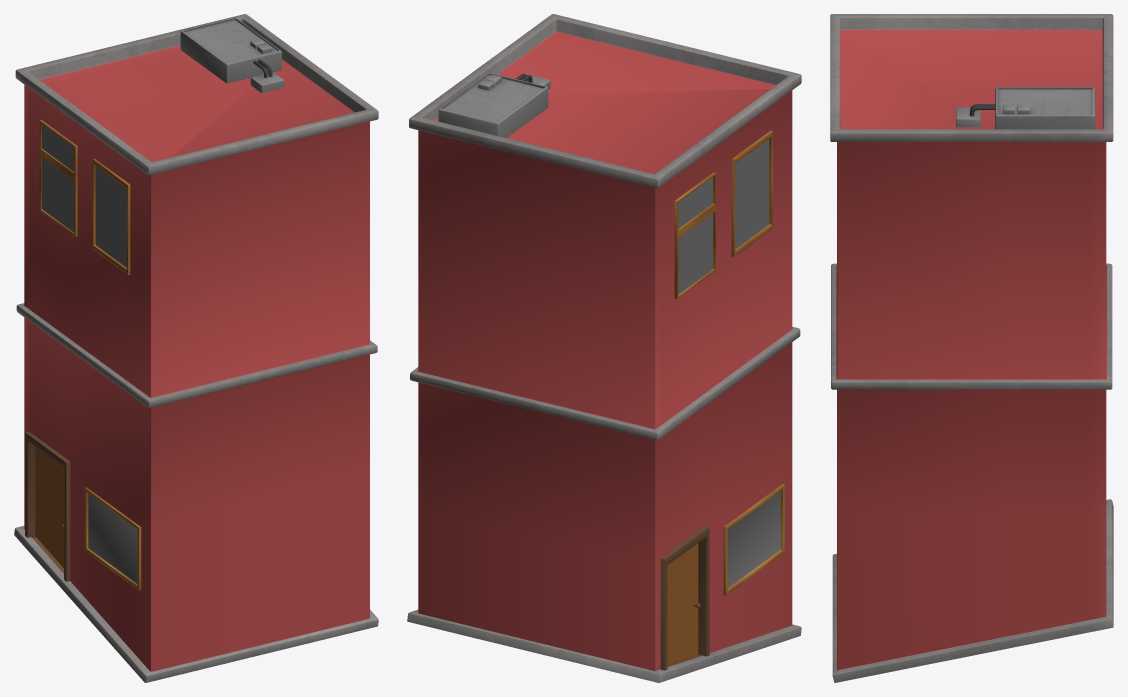
File: Casa torcida 1 Vertical Unity1.fbx
The picture shows the model from 3 angles, left to right: view 1: azimuth 30°, elevation 25°; view 2: azimuth 150°, elevation 25°; view 3: azimuth 270°, elevation 25°; orthographic projection. The views are drawn at different scales.
Parts seen in each view (by area): view 1: Cube.003; view 2: Cube.003; view 3: Cube.003.
Part boxes in pixels (bbox=[...]): Cube.003: bbox=[14, 14, 378, 682]; Cube.003: bbox=[407, 14, 801, 682]; Cube.003: bbox=[830, 14, 1113, 682].
Size of the model in its own units: 1073 by 2314 by 1063.
